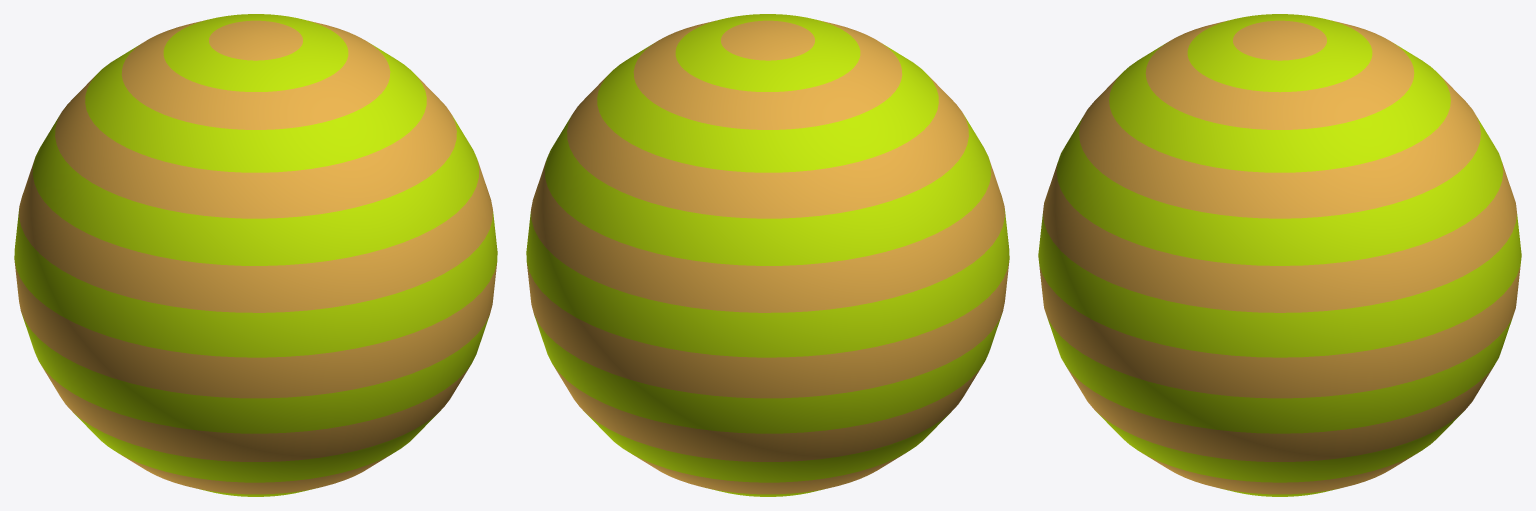
Rendered from bowling_ball_2.fbx.
3 views of the same model, side by side, from view 1: azimuth 30°, elevation 25°; view 2: azimuth 150°, elevation 25°; view 3: azimuth 270°, elevation 25° (orthographic).
Visible parts, largest first — view 1: Sphere; view 2: Sphere; view 3: Sphere.
Boxes of the visible parts, x1=… form: Sphere: x1=14, y1=14, x2=497, y2=496; Sphere: x1=526, y1=14, x2=1009, y2=496; Sphere: x1=1038, y1=14, x2=1521, y2=496.
Size of the model in its own units: 2 by 2 by 2.
